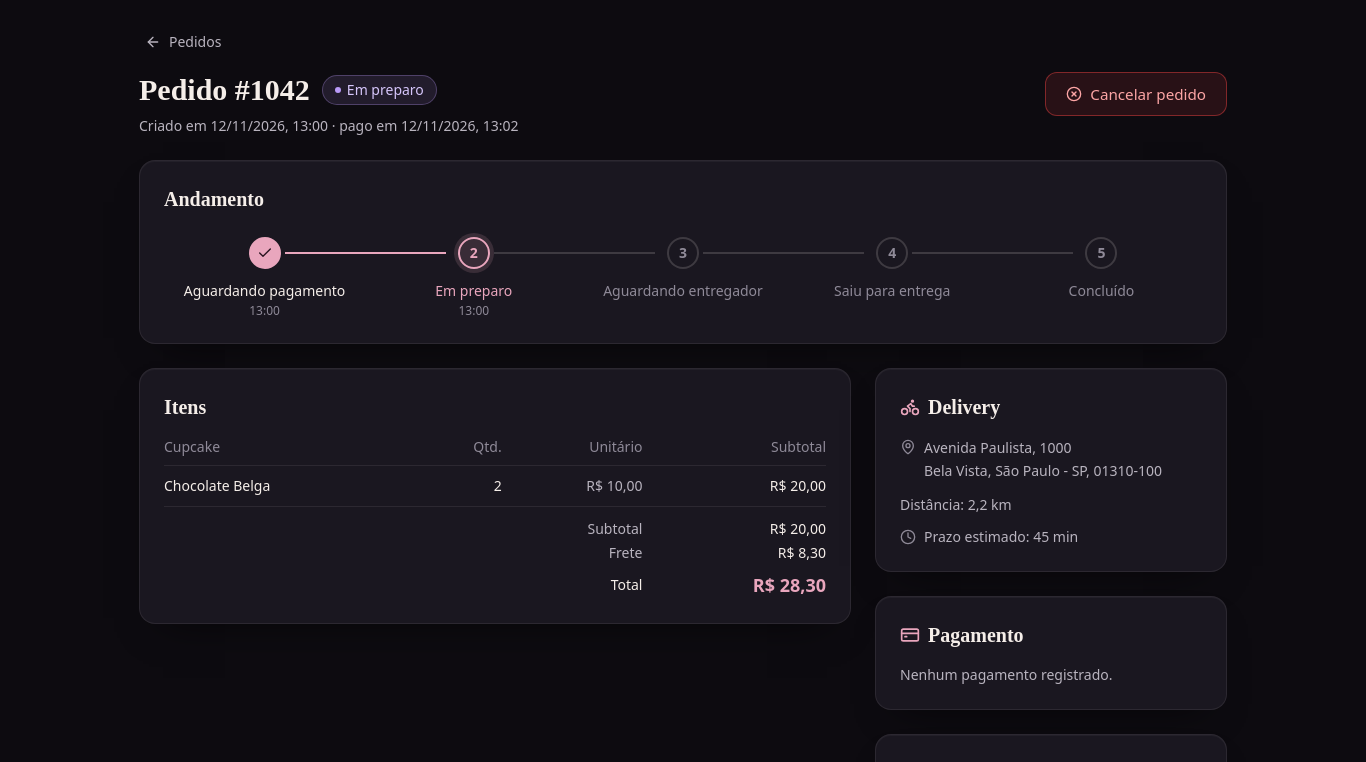
AdminOrderDetailPage › cancela pedido pago informando o reembolso
Click the button "Cancelar pedido" at (1136, 94), box [1045, 72, 1227, 116]
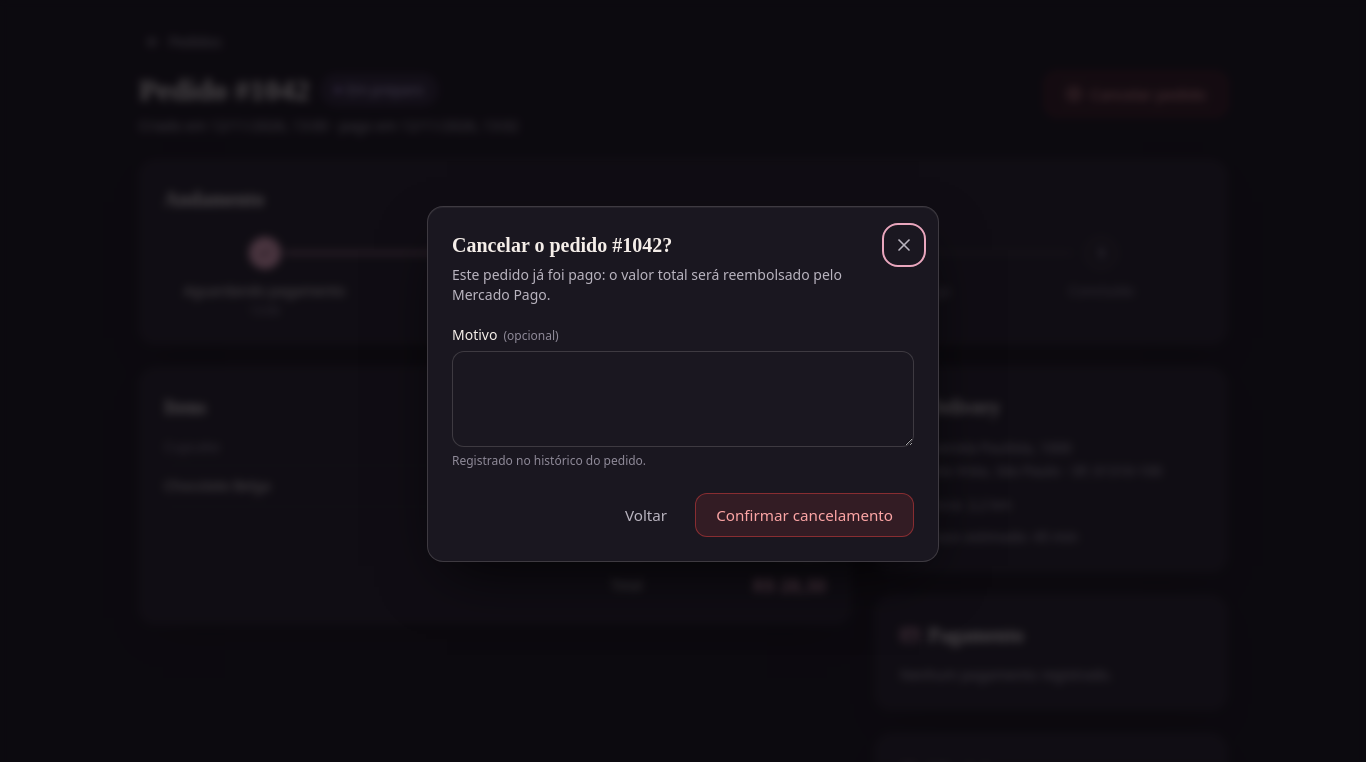
expect the dialog "Cancelar o pedido #1042?" shows "será reembolsado": met, box [452, 265, 842, 304]
Type "Falta de ingrediente" into the text box labelled "Motivo(opcional)" at (683, 399), box [452, 351, 914, 447]
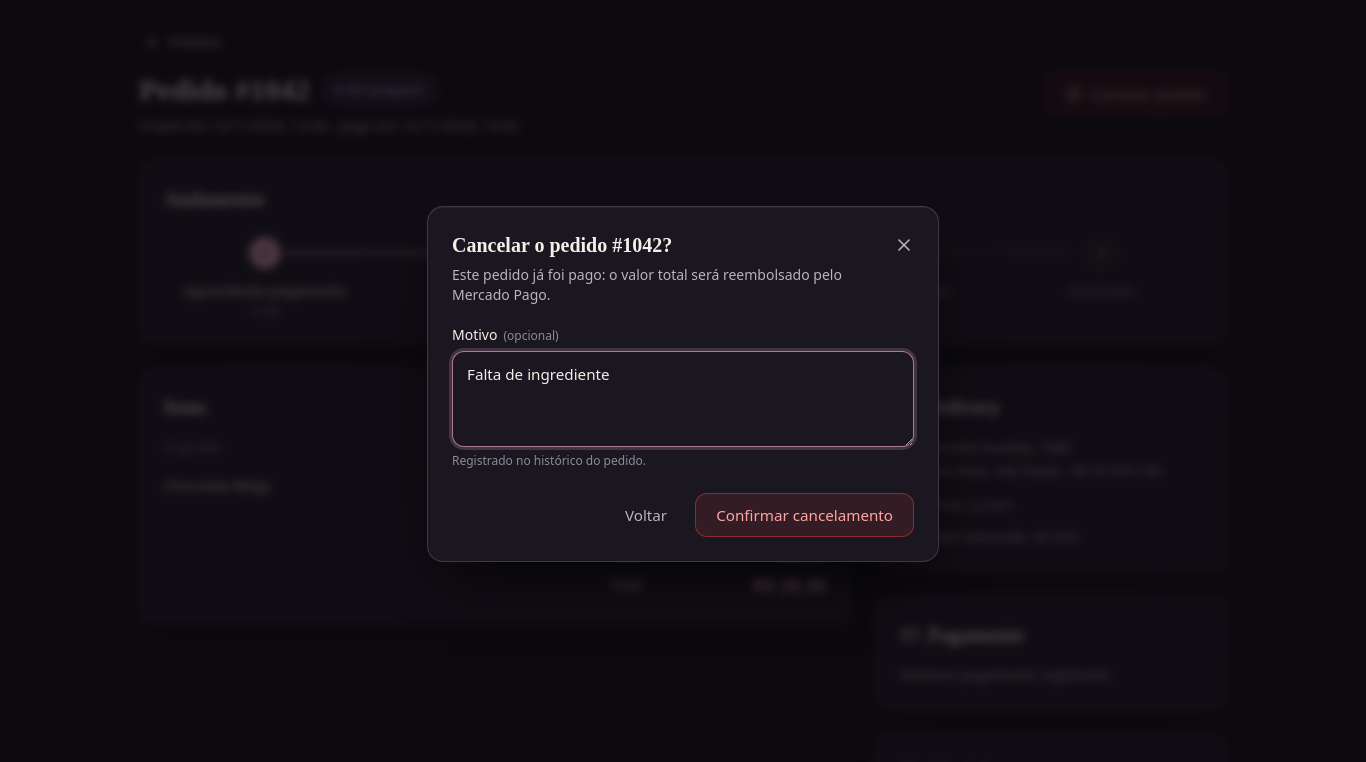
Click the button "Confirmar cancelamento" at (805, 515), box [695, 493, 914, 537]
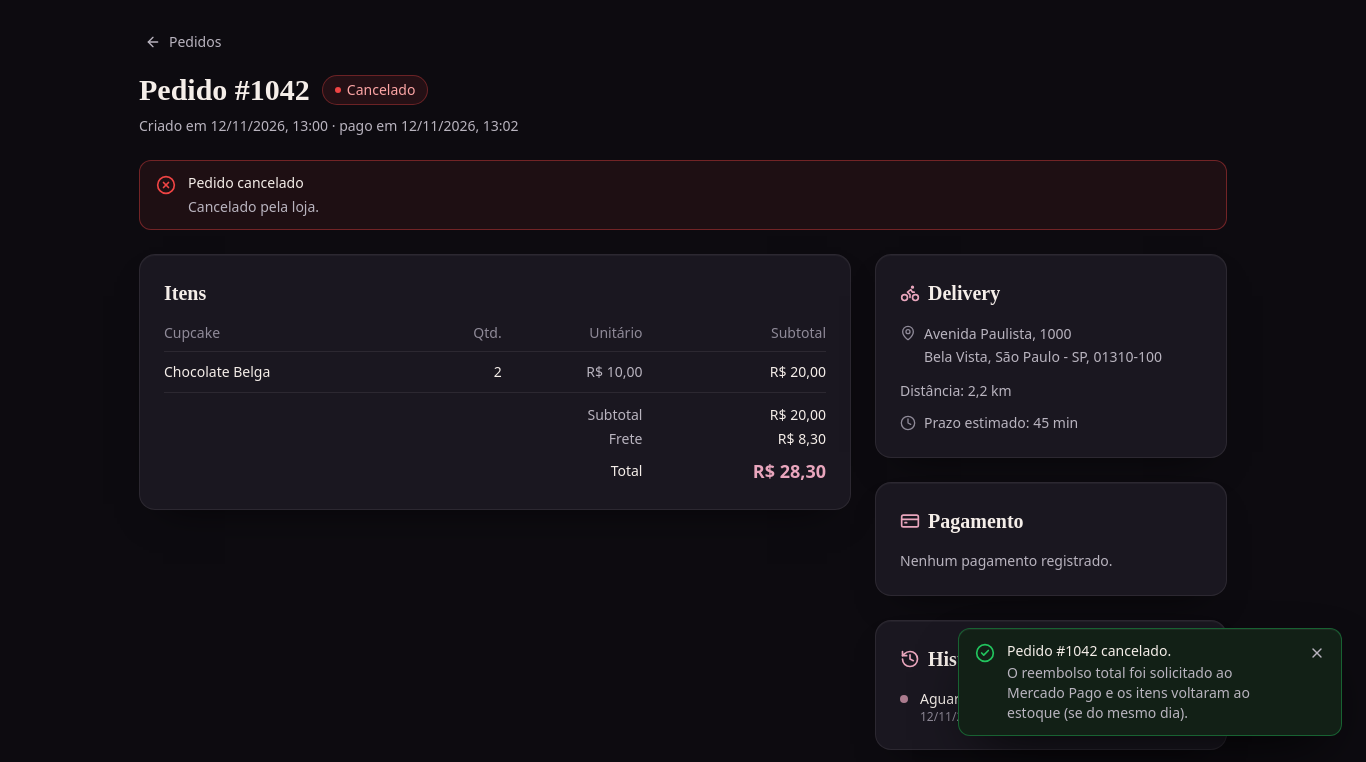
expect the text "Cancelado pela loja." is shown: met, box [188, 197, 319, 216]
expect the text "reembolso total foi solicitado" is shown: met, box [1007, 663, 1250, 722]
